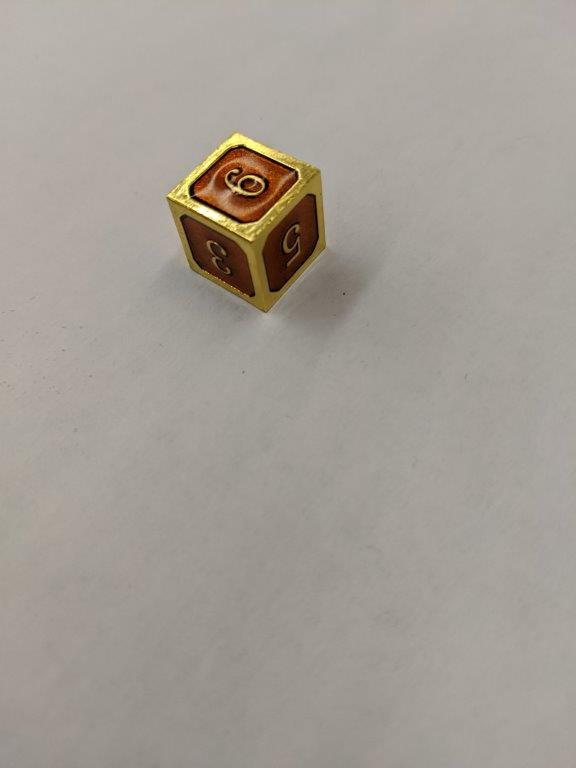d6-6: (167, 131, 332, 314)
